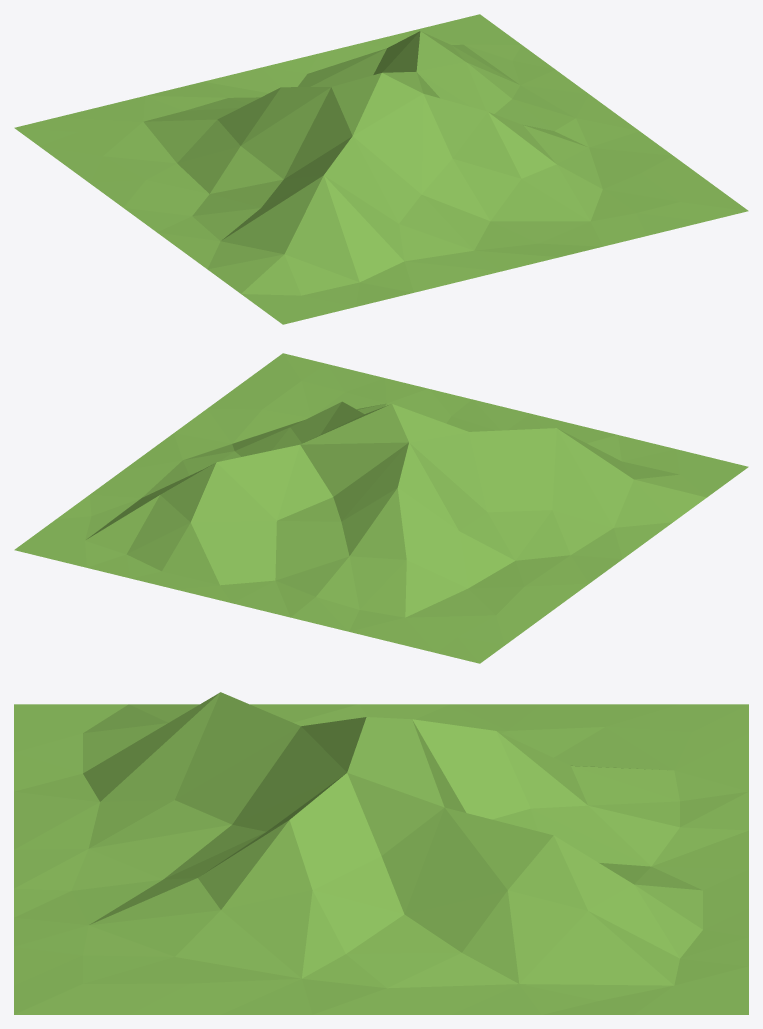
The model's file is MT_Terrain_S_a_19_LOD.fbx.
3 views of the same model, one above another, from view 1: azimuth 30°, elevation 25°; view 2: azimuth 150°, elevation 25°; view 3: azimuth 270°, elevation 25° (orthographic). The views are drawn at different scales.
Visible parts, largest first — view 1: MT_Terrain_S_a_19_LOD0; view 2: MT_Terrain_S_a_19_LOD0; view 3: MT_Terrain_S_a_19_LOD0.
Boxes of the visible parts, x1,y1,x2,y2 form: MT_Terrain_S_a_19_LOD0: [14, 14, 748, 324]; MT_Terrain_S_a_19_LOD0: [14, 353, 748, 663]; MT_Terrain_S_a_19_LOD0: [14, 692, 748, 1014].
Size of what is drawn, in the model's own units: 2500 by 531 by 2500.
